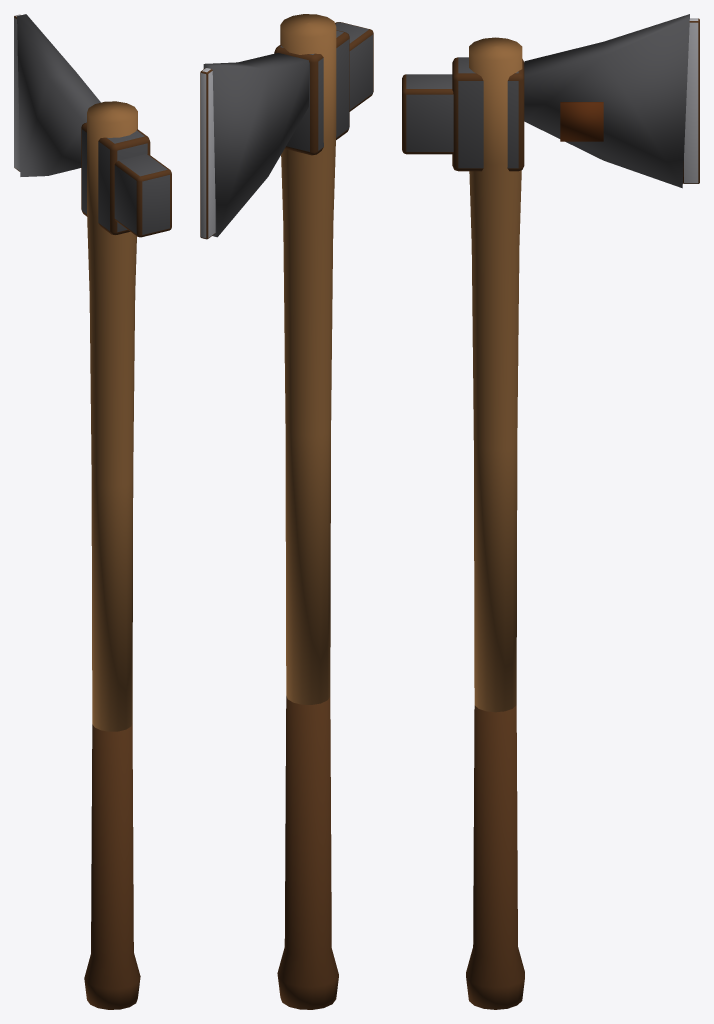
The model's file is axe.glb.
3 views of the same model, side by side, from view 1: azimuth 30°, elevation 25°; view 2: azimuth 150°, elevation 25°; view 3: azimuth 270°, elevation 25° (orthographic). The views are drawn at different scales.
Visible parts, largest first — view 1: Axe; view 2: Axe; view 3: Axe.
Boxes of the visible parts, bbox=[...] form: Axe: bbox=[14, 14, 171, 1009]; Axe: bbox=[200, 14, 373, 1009]; Axe: bbox=[402, 14, 699, 1009].
Bounding box in the file's own units: 0.042 × 0.755 × 0.207.
